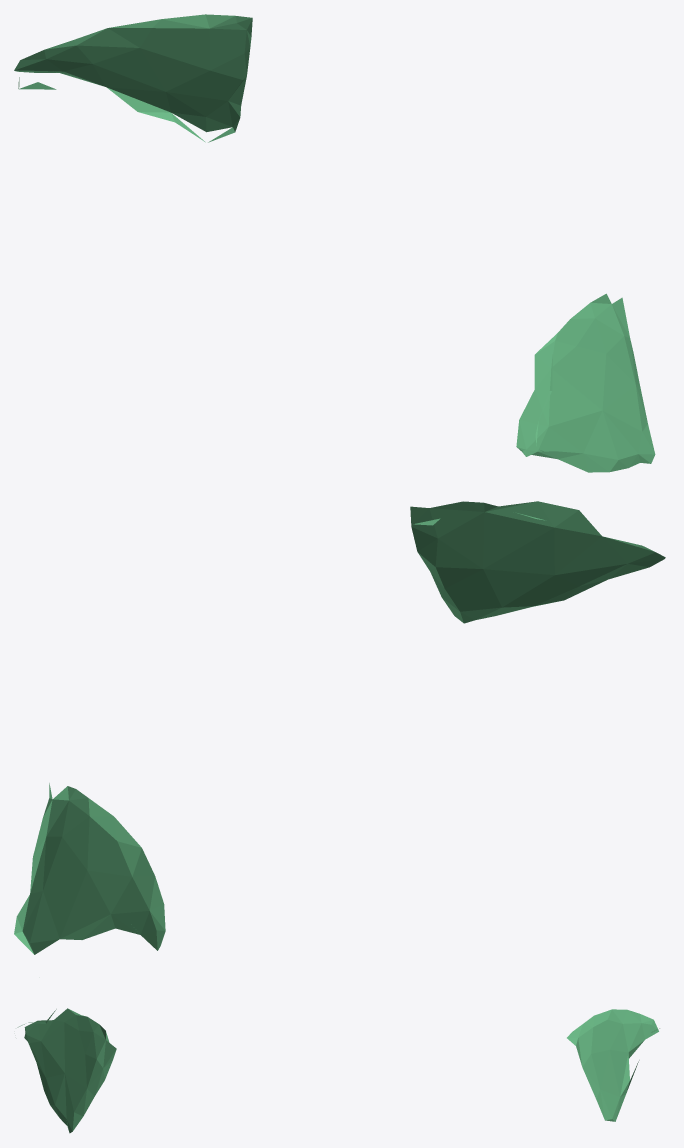
3 renders of one model, top to bottom at view 1: azimuth 30°, elevation 25°; view 2: azimuth 150°, elevation 25°; view 3: azimuth 270°, elevation 25°, orthographic. The views are drawn at different scales.
Visible parts, largest first — view 1: 132.obj; view 2: 132.obj; view 3: 132.obj.
Part boxes in pixels (left/top/right/bottom): 132.obj: left=14, top=14, right=655, bottom=472; 132.obj: left=14, top=501, right=665, bottom=954; 132.obj: left=17, top=1008, right=659, bottom=1133.
Bounding box in the file's own units: 471 × 364 × 2168.
